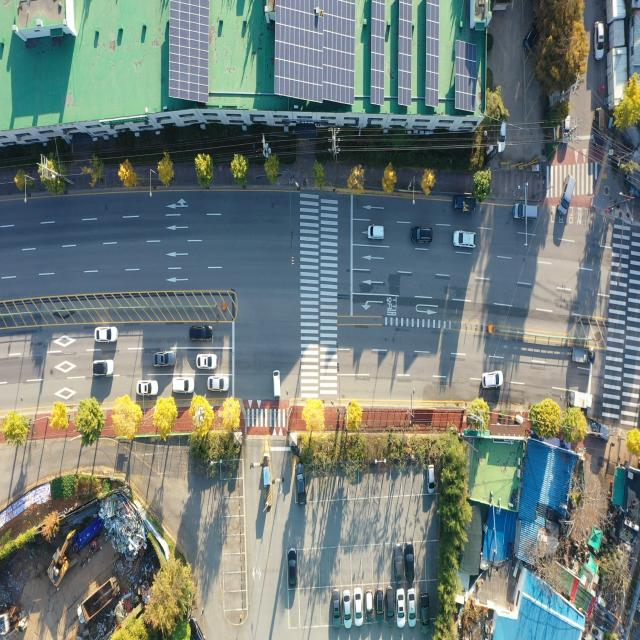car: (558, 177, 574, 217), (527, 22, 542, 52), (454, 232, 477, 250), (295, 465, 305, 506), (513, 204, 537, 221), (594, 108, 604, 148), (412, 227, 433, 245), (154, 351, 176, 368), (93, 359, 115, 376), (172, 378, 194, 394), (190, 326, 212, 342), (407, 586, 416, 625), (394, 546, 404, 581), (288, 550, 297, 588), (96, 327, 118, 342), (198, 354, 218, 370), (376, 589, 385, 623), (407, 544, 415, 582), (396, 588, 404, 626), (421, 594, 429, 632), (137, 381, 157, 396), (208, 377, 228, 392), (594, 21, 602, 58), (334, 589, 342, 626), (355, 589, 363, 626), (562, 116, 572, 145), (344, 590, 352, 626), (498, 122, 507, 154), (483, 373, 502, 388), (386, 589, 394, 622), (367, 226, 384, 241), (273, 369, 281, 399), (365, 589, 372, 622), (428, 463, 435, 494)
medium_truck: (76, 572, 121, 625)
small_truck: (586, 418, 612, 446), (569, 390, 594, 409), (453, 198, 475, 215), (572, 348, 594, 364)
